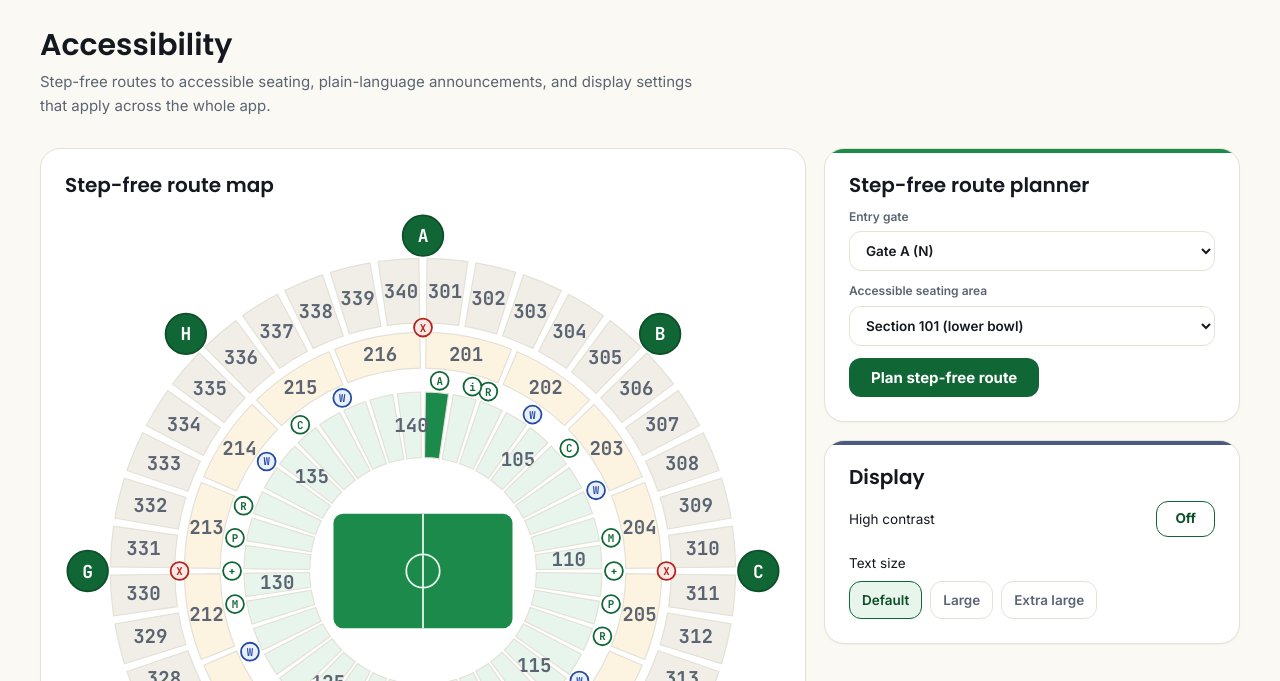
Test: AccessibilityScreen — step-free route planner › shows a designed error state with retry when planning fails
Select "Gate G (W)" in the dropdown labelled "Entry gate" at (1032, 251), box x1=849 y1=231 x2=1215 y2=271
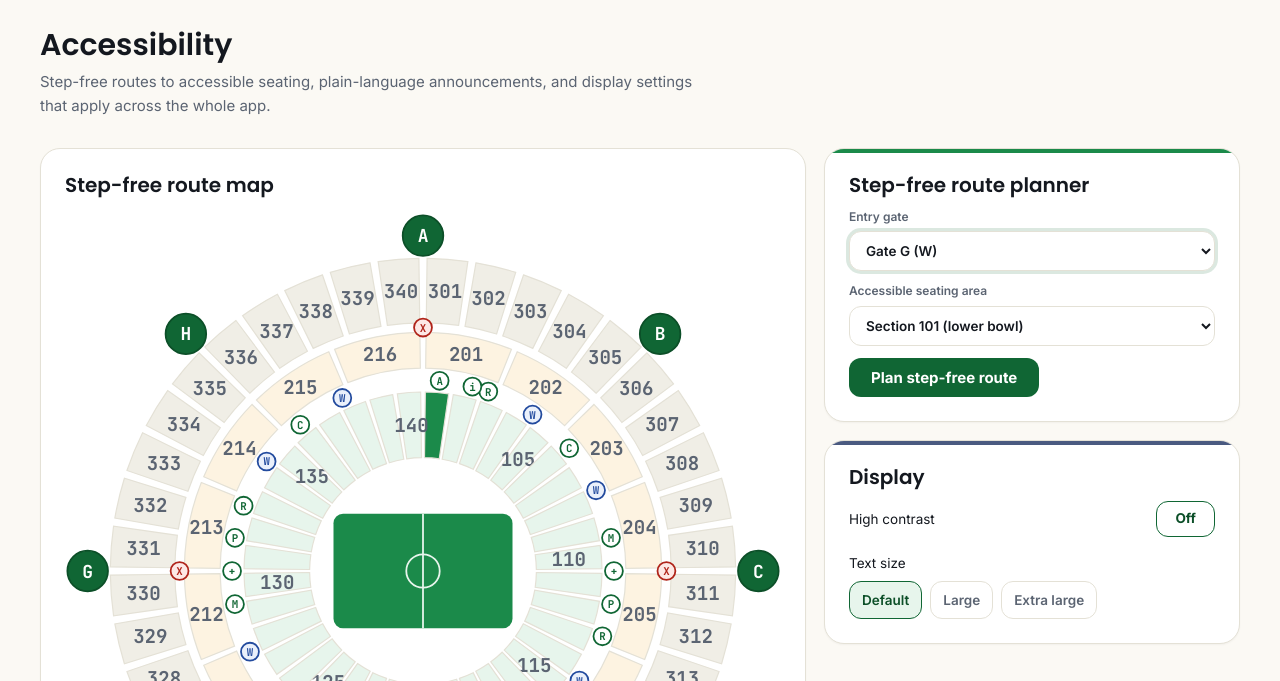
Select "Section 120 (lower bowl)" in the dropdown labelled "Accessible seating area" at (1032, 326), box x1=849 y1=306 x2=1215 y2=346
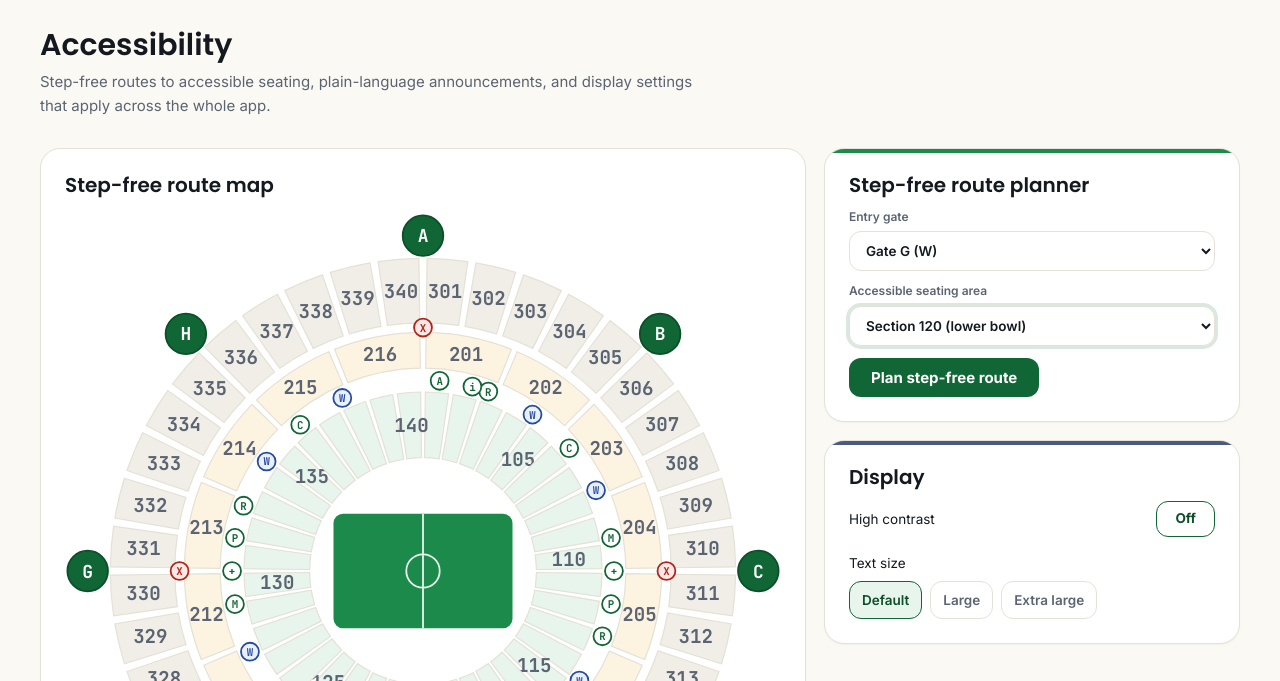
Click the button "Plan step-free route" at (944, 378), box x1=849 y1=358 x2=1039 y2=397
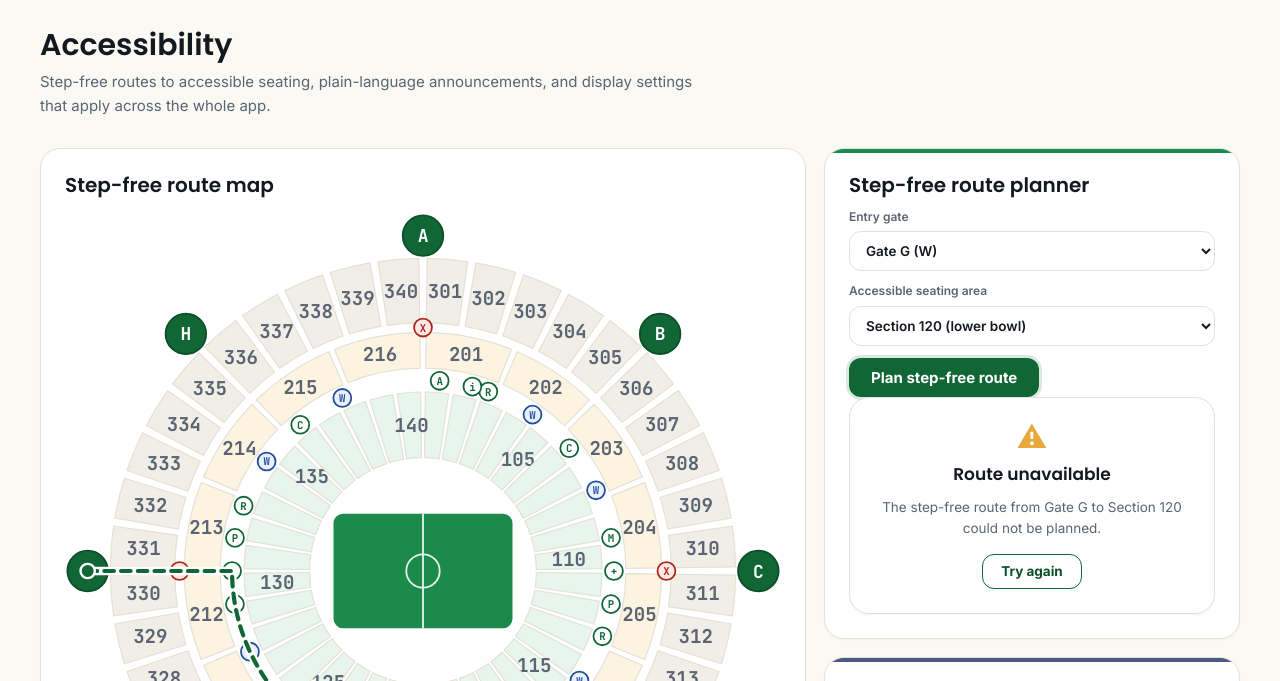
Check: the message shows "could not be planned", box x1=882 y1=499 x2=1182 y2=536
Click the button "Try again" at (1032, 572), box x1=982 y1=554 x2=1082 y2=589
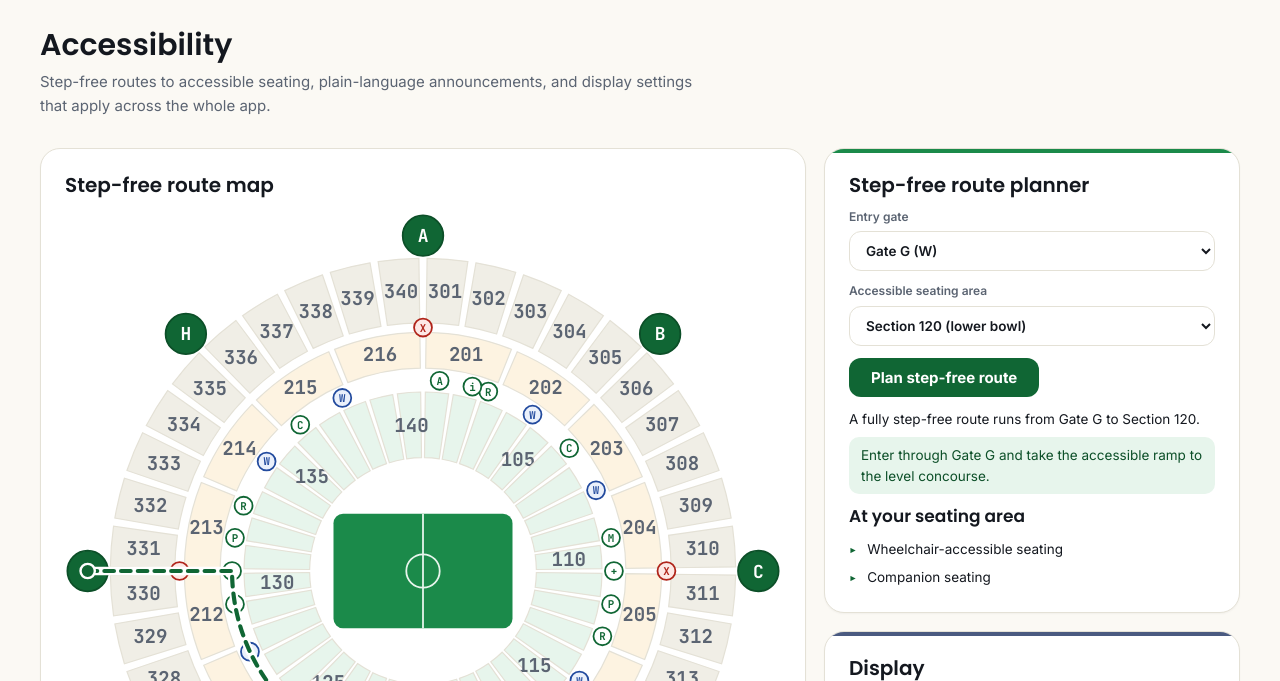
Check: the text "A fully step-free route runs from Gate G to Section 120." is shown, box x1=849 y1=409 x2=1215 y2=429
